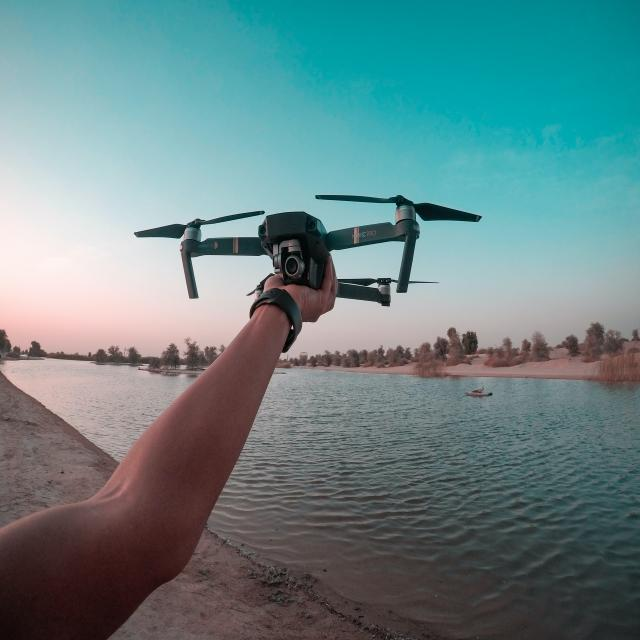Drone THREAT: (128, 170, 236, 207), (78, 113, 118, 131)
Drone3: (136, 174, 485, 316)
